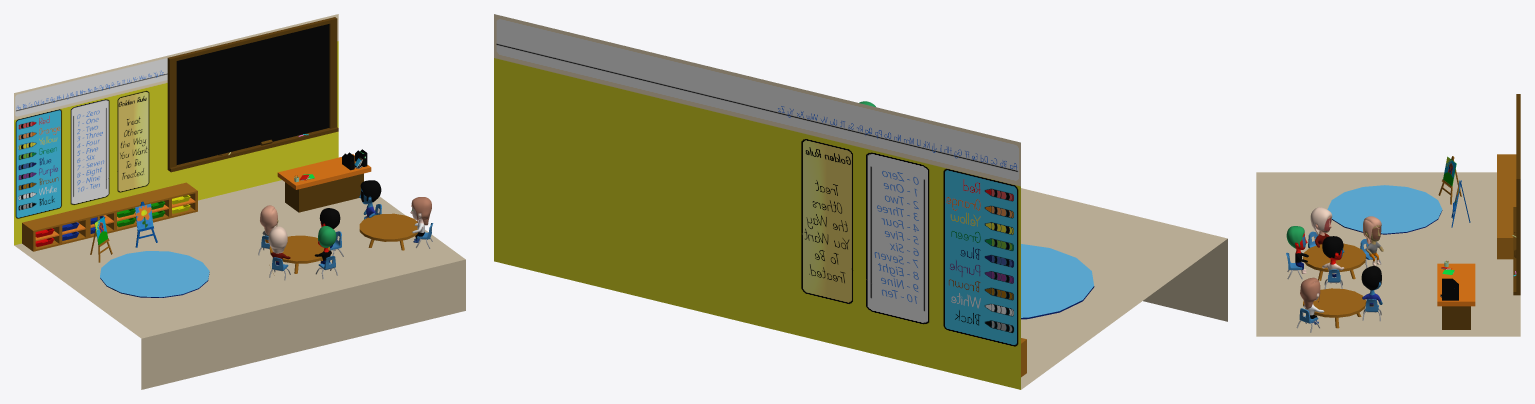
File: Class Room - Kindergarten.fbx
3 views of the same model, side by side, from view 1: azimuth 30°, elevation 25°; view 2: azimuth 150°, elevation 25°; view 3: azimuth 270°, elevation 25° (orthographic). The views are drawn at different scales.
Visible parts, largest first — view 1: Classroom.010; view 2: Classroom.010; view 3: Classroom.010.
Part boxes in pixels (<box>): Classroom.010: <box>14,14,465,389</box>; Classroom.010: <box>494,14,1227,389</box>; Classroom.010: <box>1256,94,1520,336</box>.
Bounding box in the file's own units: 762 × 457 × 518.
